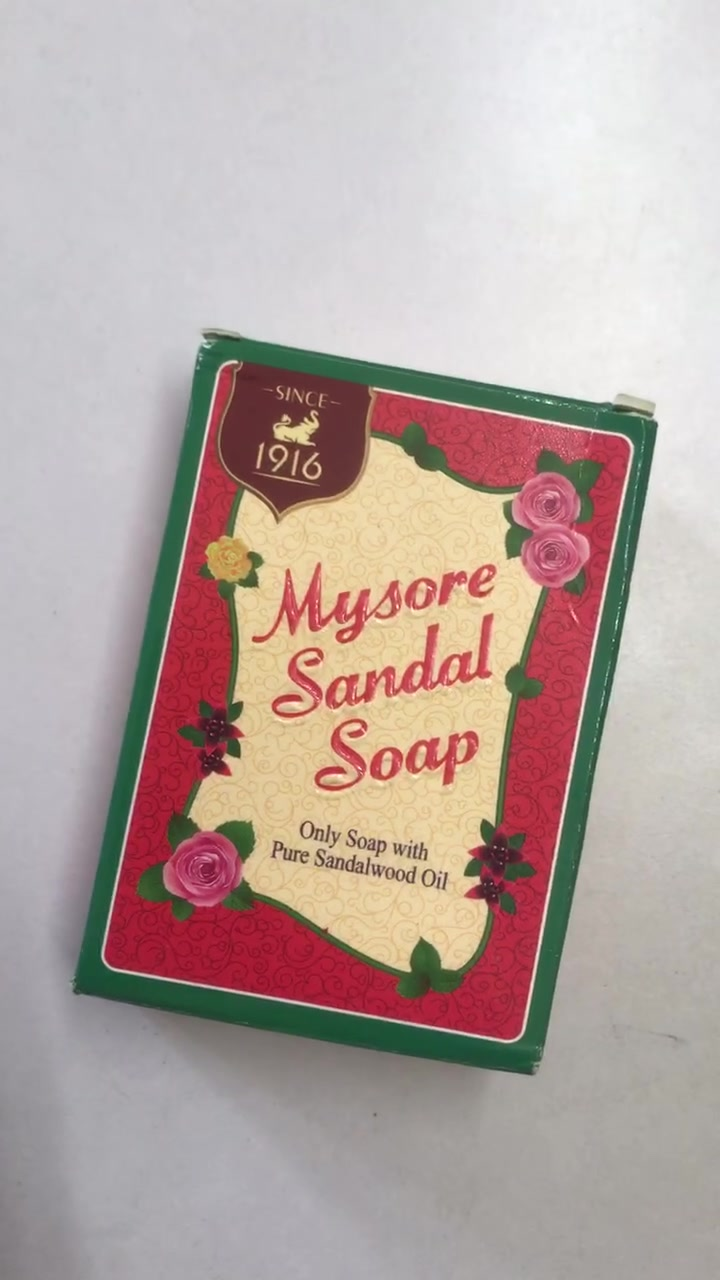mysore sandal soap: (77, 338, 663, 1075)
